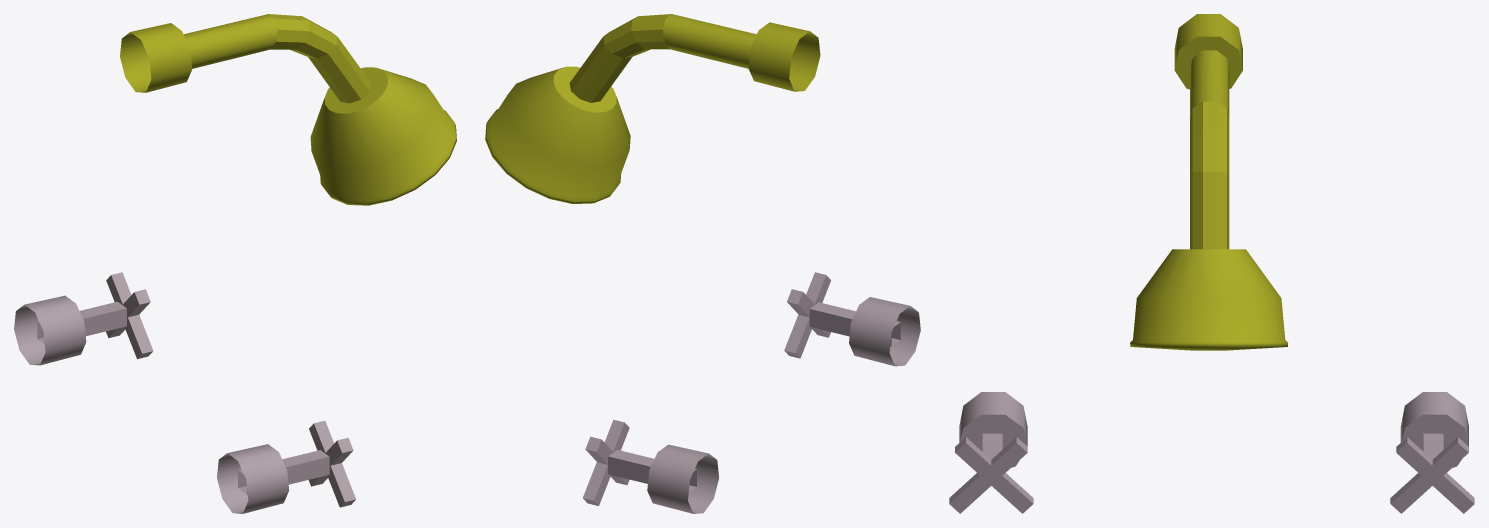
The model's file is SM_Shower_01.fbx.
3 renders of one model, left to right at view 1: azimuth 30°, elevation 25°; view 2: azimuth 150°, elevation 25°; view 3: azimuth 270°, elevation 25°, orthographic. The views are drawn at different scales.
Parts seen in each view (by area): view 1: SM_Shower_01; view 2: SM_Shower_01; view 3: SM_Shower_01.
Boxes of the visible parts, bbox=[...] form: SM_Shower_01: bbox=[14, 14, 456, 513]; SM_Shower_01: bbox=[485, 14, 920, 513]; SM_Shower_01: bbox=[949, 14, 1474, 513].
Bounding box in the file's own units: 33.46 × 41.82 × 44.64.
Materials: 1 (1 with a texture image).
